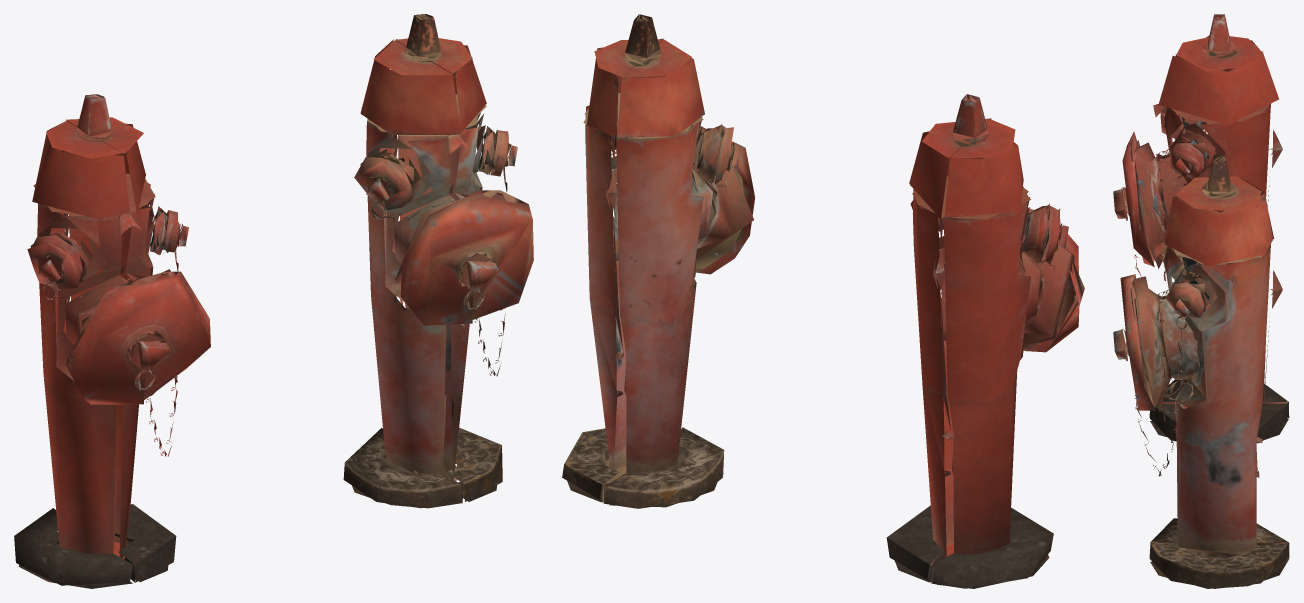
Rendered from ph_fire_hydrant.fbx.
3 renders of one model, left to right at view 1: azimuth 30°, elevation 25°; view 2: azimuth 150°, elevation 25°; view 3: azimuth 270°, elevation 25°, orthographic. The views are drawn at different scales.
Visible parts, largest first — view 1: ph_fire_hydrant_LOD0; view 2: ph_fire_hydrant_LOD0; view 3: ph_fire_hydrant_LOD0.
Boxes of the visible parts, bbox=[...] form: ph_fire_hydrant_LOD0: bbox=[14, 14, 533, 588]; ph_fire_hydrant_LOD0: bbox=[562, 14, 1084, 588]; ph_fire_hydrant_LOD0: bbox=[1113, 14, 1289, 588].
Size of what is drawn, in the model's own units: 0.8762 by 0.8013 by 0.3184.
